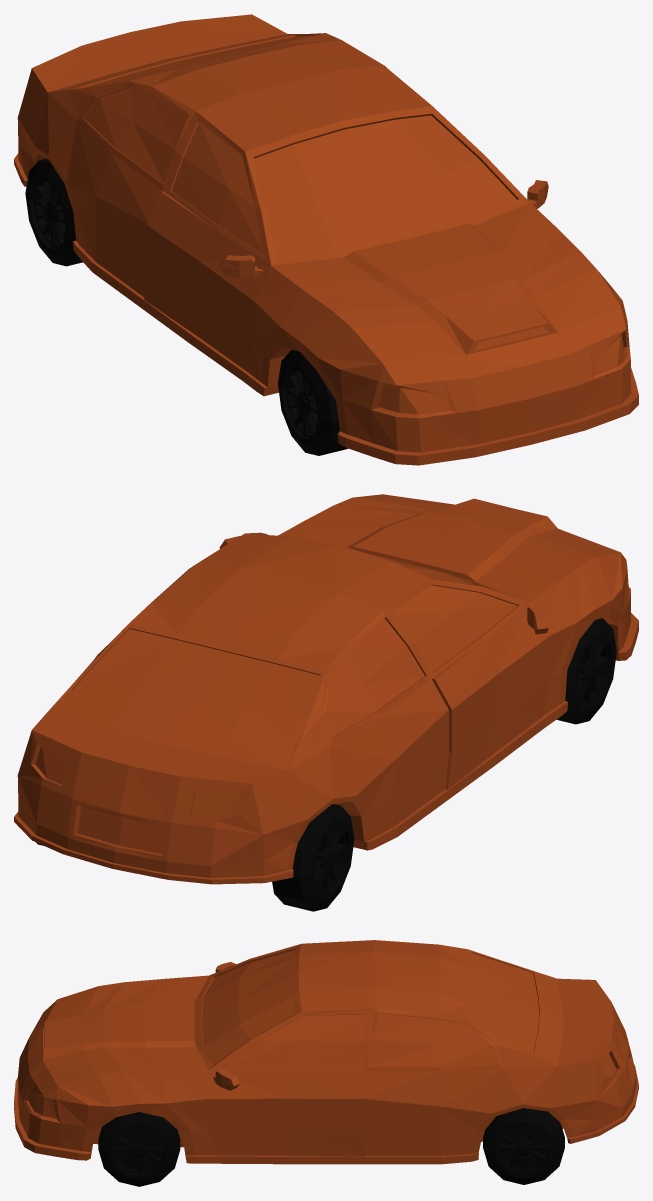
The model's file is sportscar.glb.
3 views of the same model, one above another, from view 1: azimuth 30°, elevation 25°; view 2: azimuth 150°, elevation 25°; view 3: azimuth 270°, elevation 25° (orthographic). The views are drawn at different scales.
Visible parts, largest first — view 1: SportsCar_Cube.005, SportsCar_FrontRightWheel_Cylinder.014, SportsCar_BackWheels_Cylinder.004; view 2: SportsCar_Cube.005, SportsCar_BackWheels_Cylinder.004, SportsCar_FrontRightWheel_Cylinder.014; view 3: SportsCar_Cube.005, SportsCar_BackWheels_Cylinder.004, SportsCar_FrontLeftWheel_Cylinder.013.
Boxes of the visible parts, <box> form: SportsCar_Cube.005: <box>14,14,638,465</box>; SportsCar_FrontRightWheel_Cylinder.014: <box>278,349,348,455</box>; SportsCar_BackWheels_Cylinder.004: <box>25,158,82,266</box>; SportsCar_Cube.005: <box>14,494,638,884</box>; SportsCar_BackWheels_Cylinder.004: <box>36,804,354,911</box>; SportsCar_FrontRightWheel_Cylinder.014: <box>556,618,616,724</box>; SportsCar_Cube.005: <box>14,940,638,1164</box>; SportsCar_BackWheels_Cylinder.004: <box>483,1108,564,1184</box>; SportsCar_FrontLeftWheel_Cylinder.013: <box>98,1112,180,1186</box>.
Bounding box in the file's own units: 1.8 × 1.16 × 3.97.
